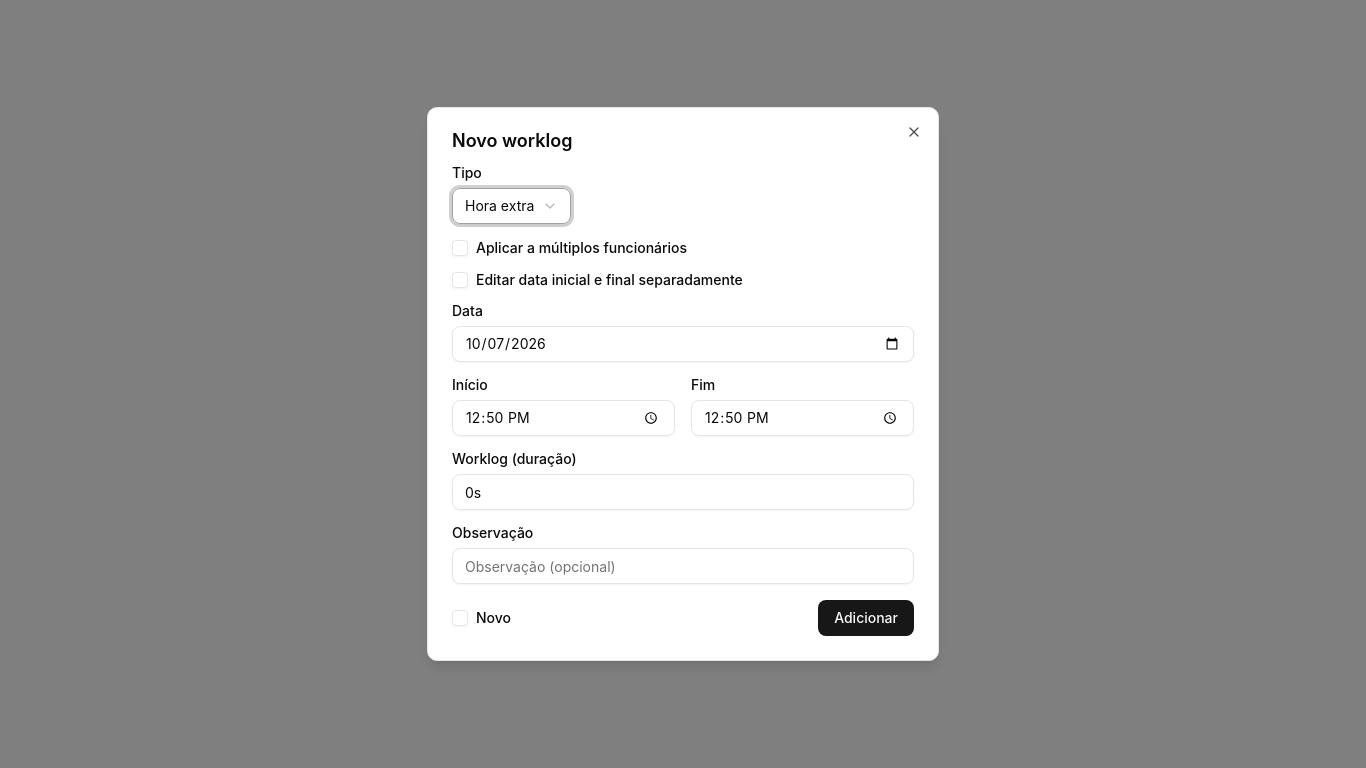
Test: WorkLogFormModal › simple mode (Data/Início/Fim inputs) › rolling over to the next day via the duration field keeps the displayed Data unchanged and shows only the time in Fim
Type "2026-01-01" into the date field.
click(683, 344); type("2026-01-01")  # box left=452, top=326, right=914, bottom=362
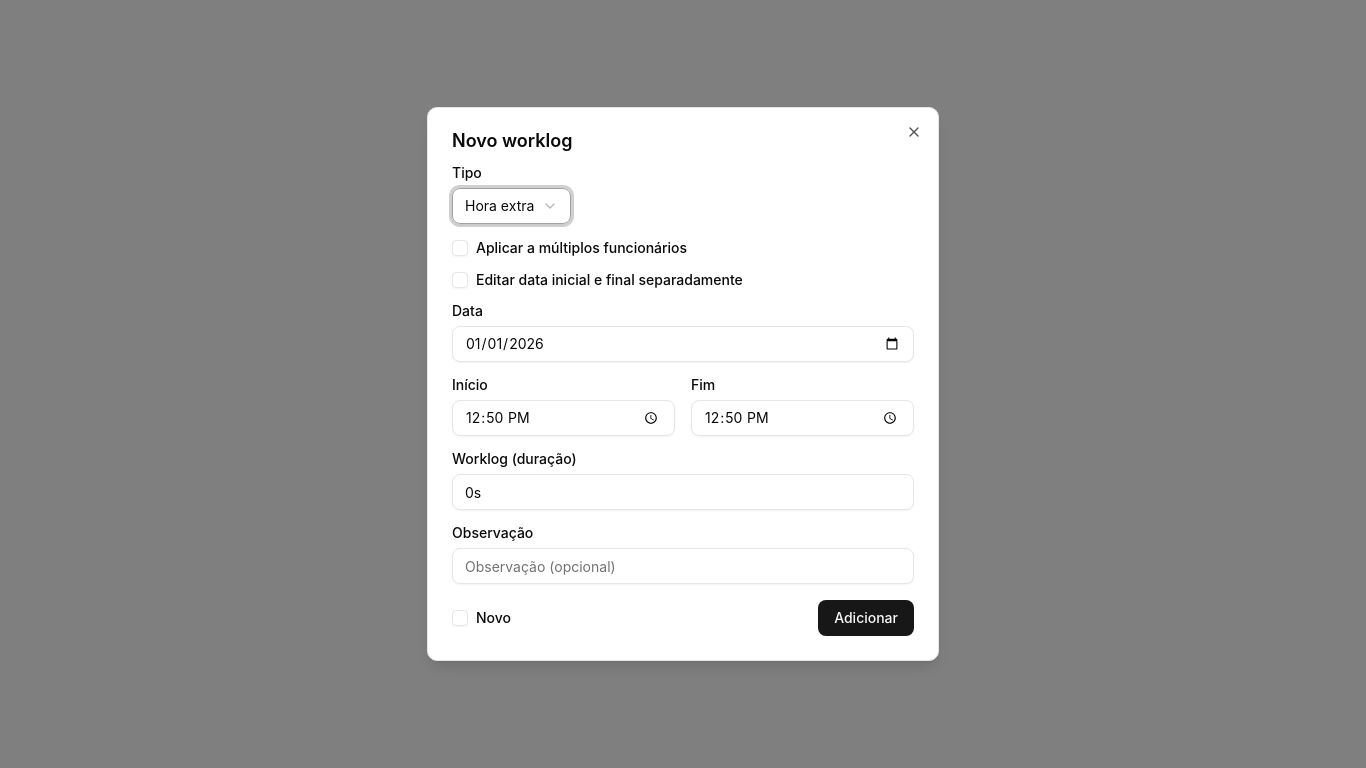
Replace the text in the time field below "Início" with "22:00" at (564, 418), box left=452, top=400, right=675, bottom=436
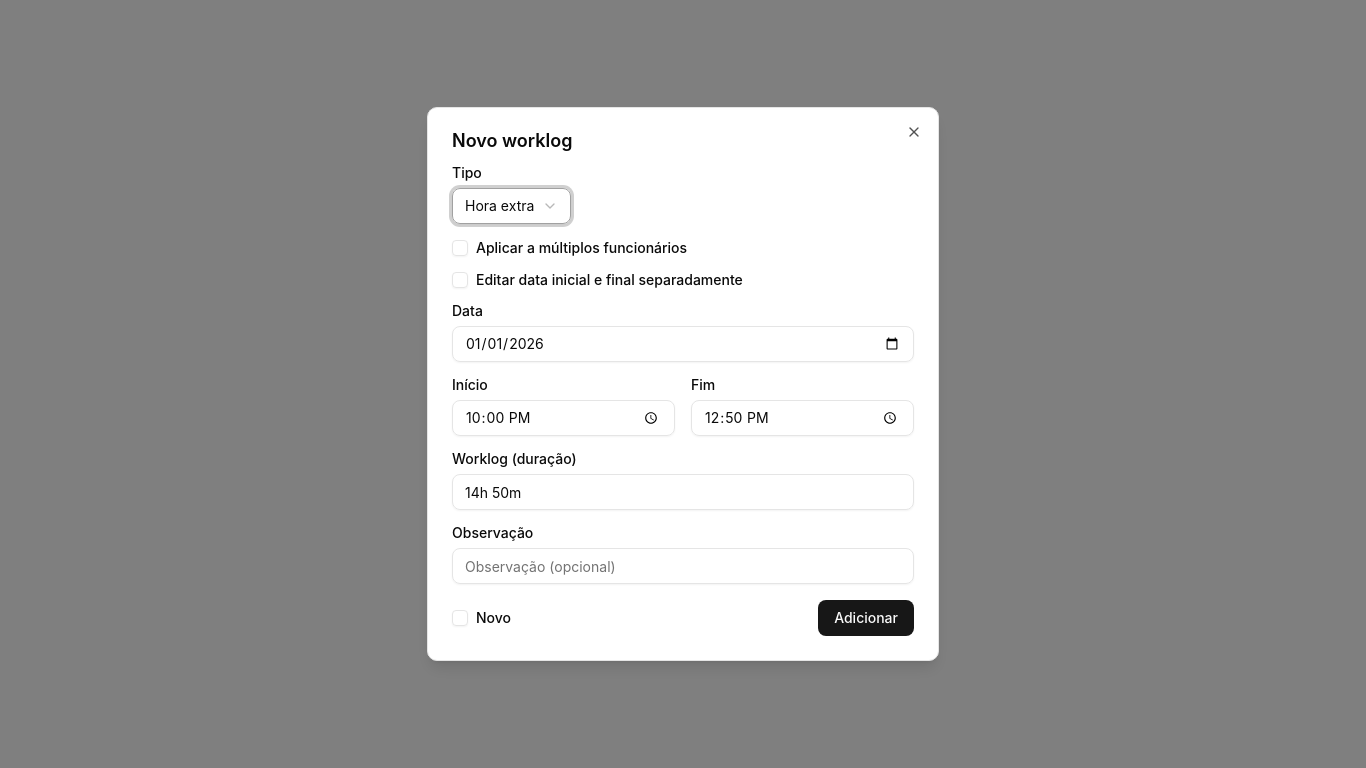
Replace the text in the time field below "Fim" with "22:00" at (802, 418), box left=691, top=400, right=914, bottom=436
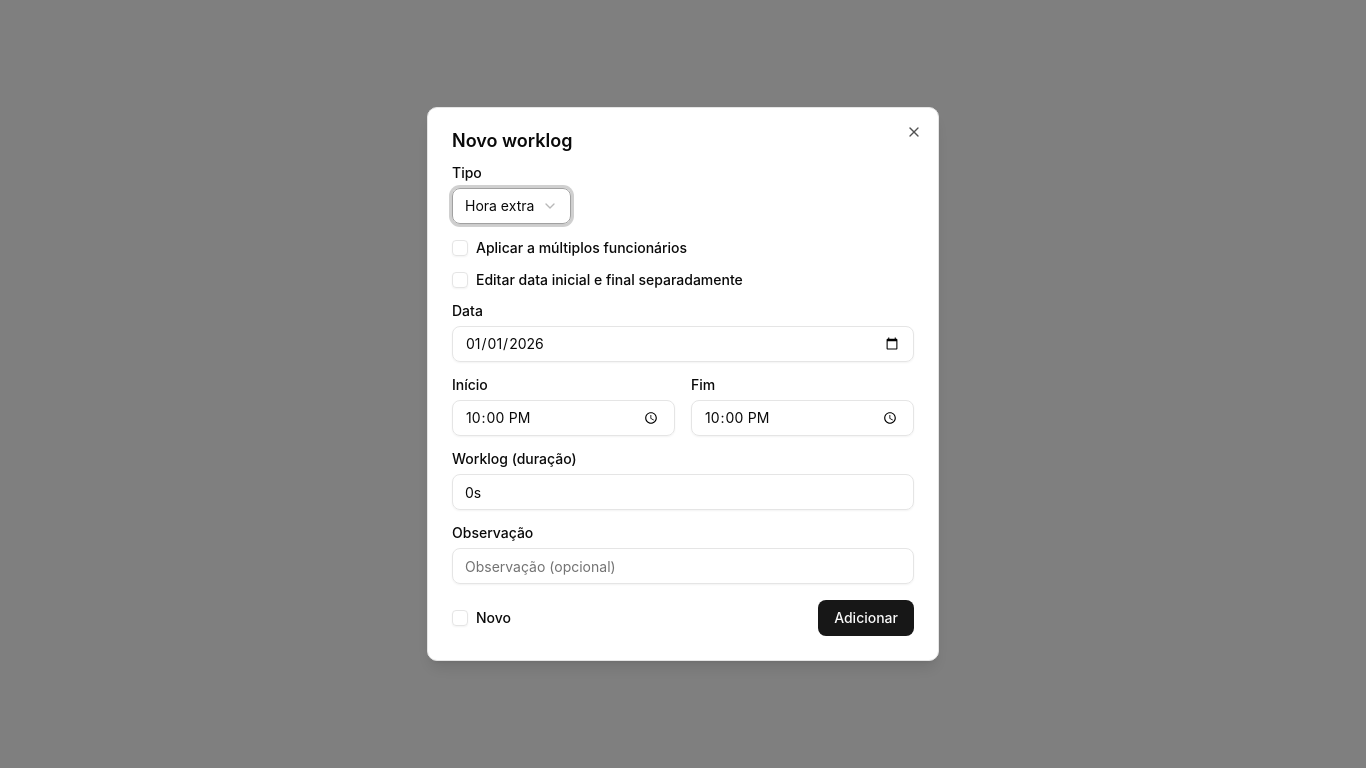
Replace the text in the field with placeholder "Ex.: 1h 30m" with "4h" at (683, 492), box left=452, top=474, right=914, bottom=510
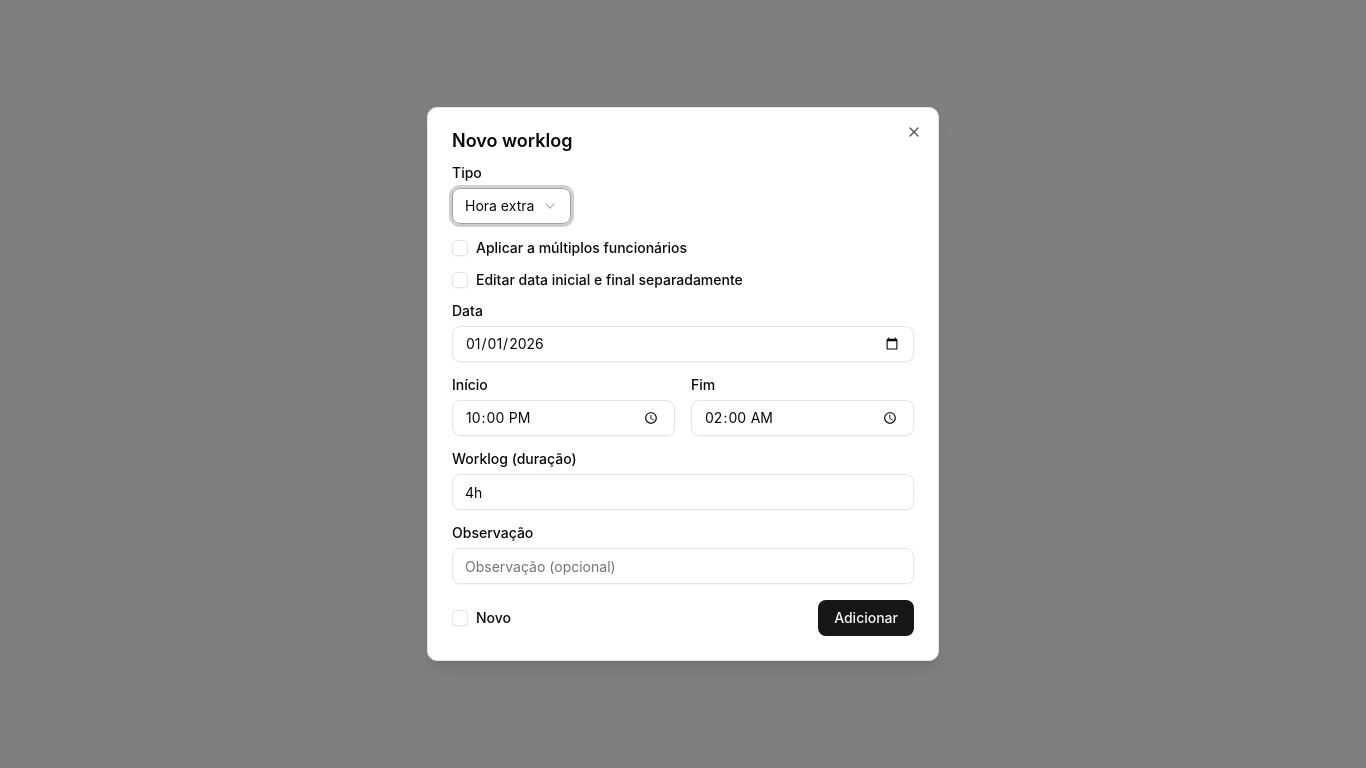
Expected: the time field below "Fim" holds "02:00", left=691, top=400, right=914, bottom=436
Click the 2nd checkbox named "editar data inicial e final separadamente".
click(460, 280)  # box left=452, top=272, right=468, bottom=288
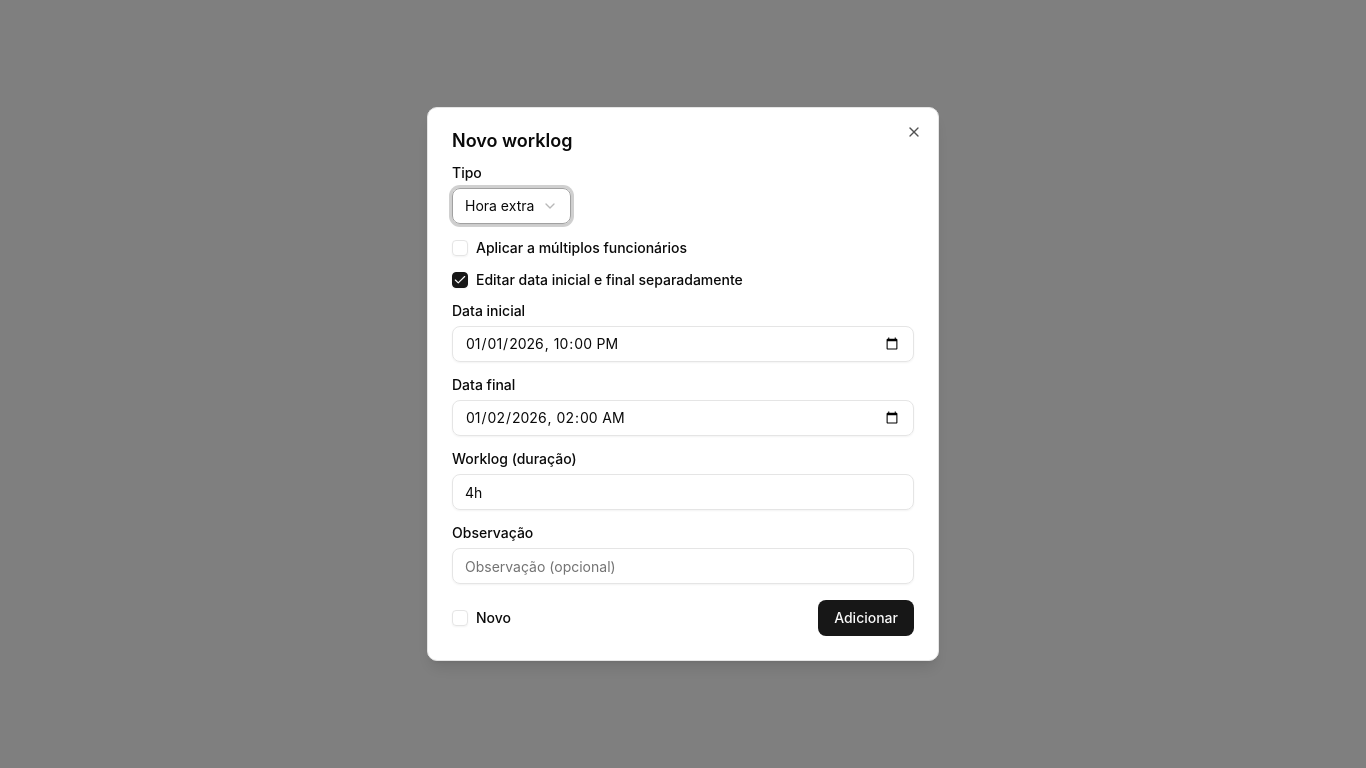
Expected: the field below "Data final" holds "2026-01-02T02:00", left=452, top=400, right=914, bottom=436
